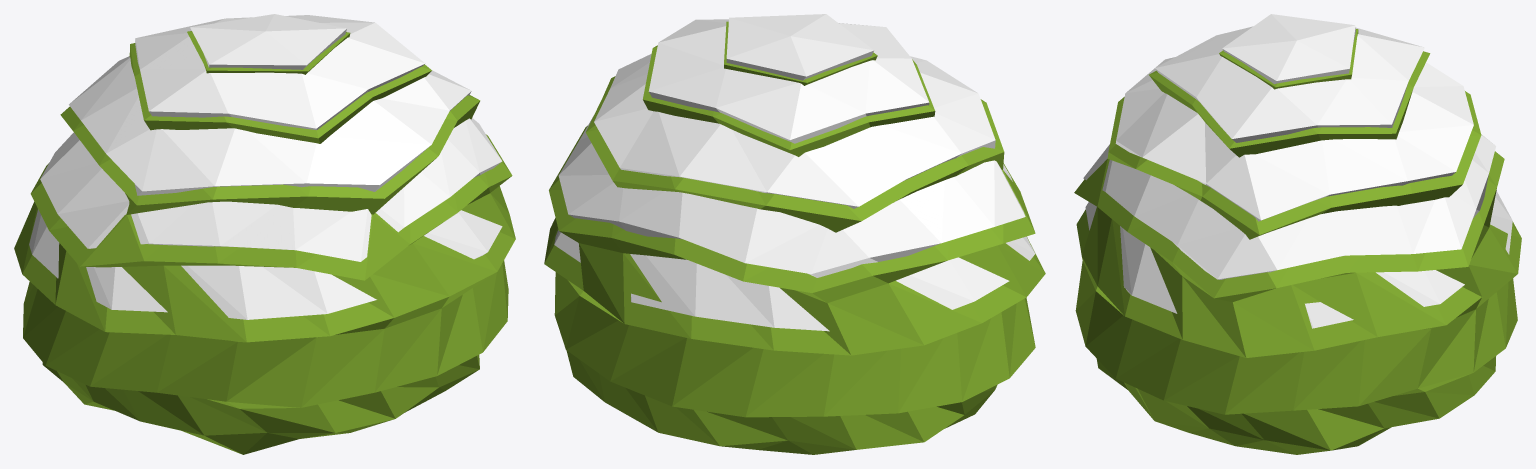
Rendered from SnowbushB.fbx.
The picture shows the model from 3 angles, left to right: view 1: azimuth 30°, elevation 25°; view 2: azimuth 150°, elevation 25°; view 3: azimuth 270°, elevation 25°; orthographic projection. The views are drawn at different scales.
Parts seen in each view (by area): view 1: Icosphere.001, Icosphere.002; view 2: Icosphere.001, Icosphere.002; view 3: Icosphere.001, Icosphere.002.
Part boxes in pixels (x1=…): Icosphere.001: x1=14, y1=31, x2=515, y2=454; Icosphere.002: x1=29, y1=14, x2=502, y2=319; Icosphere.001: x1=544, y1=21, x2=1045, y2=454; Icosphere.002: x1=554, y1=14, x2=1035, y2=331; Icosphere.001: x1=1074, y1=29, x2=1521, y2=454; Icosphere.002: x1=1083, y1=14, x2=1512, y2=328.
Size of the model in its own units: 231 by 179 by 207.
